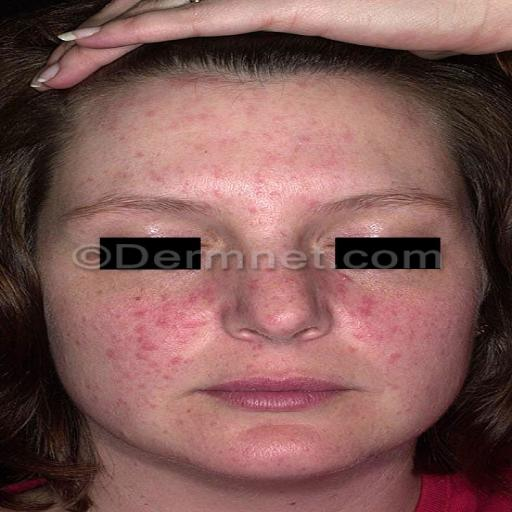Skin_Lesion: (324, 299, 419, 335), (124, 314, 162, 356), (180, 283, 224, 312), (141, 164, 184, 190), (245, 170, 282, 199), (211, 158, 232, 178)
